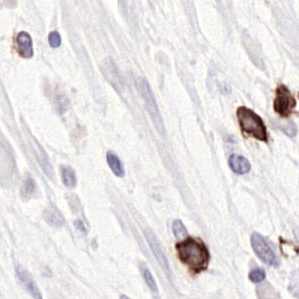Lymphocyte: (174, 235, 212, 273)
